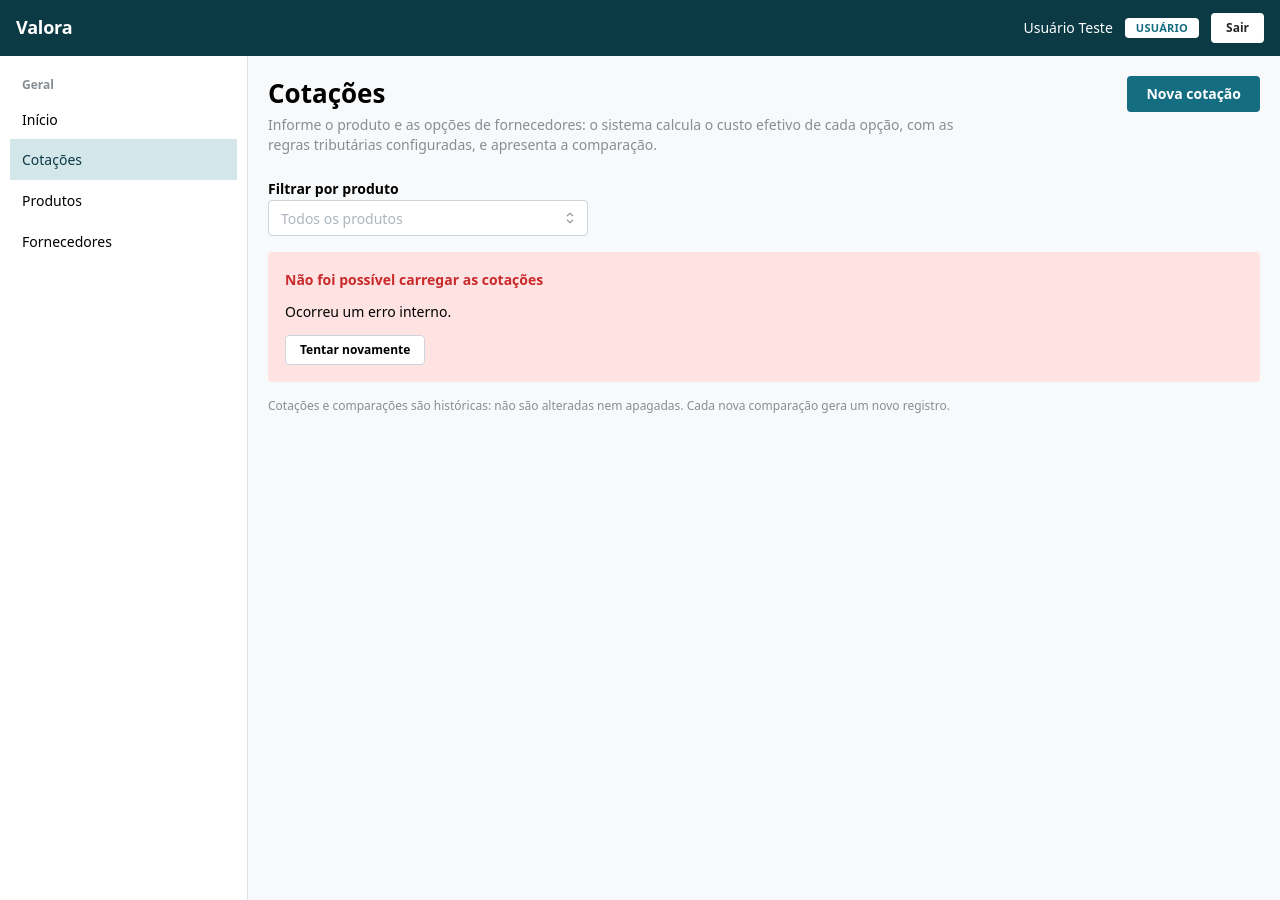
Test case: CotacoesPage — listagem › mostra o erro da API e permite tentar novamente
Expected: the message shows "Não foi possível carregar as cotações", [285, 270, 543, 290]
Click the button "Tentar novamente": (355, 350) [285, 335, 425, 365]
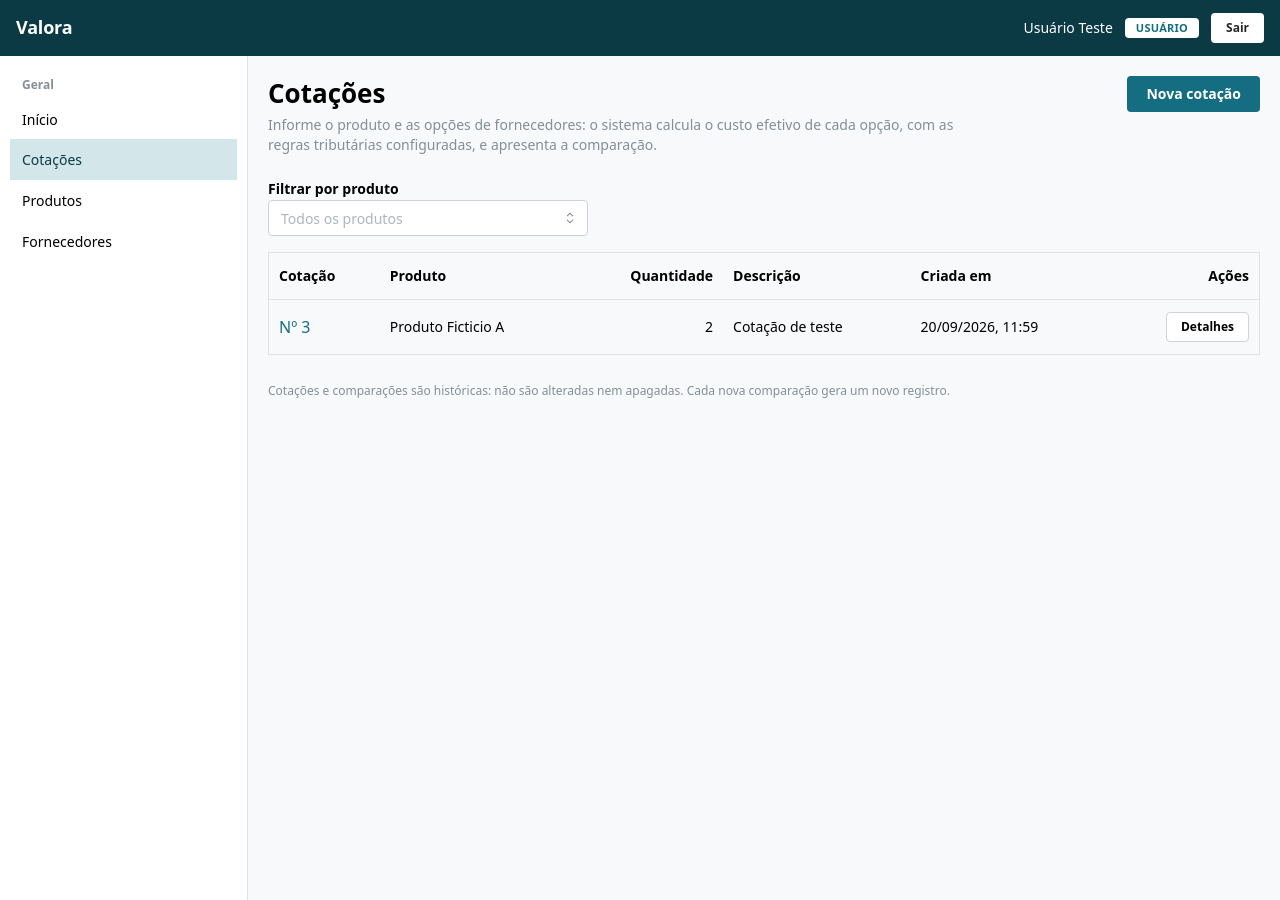
Result: the table named "Cotações registradas" is shown at [268, 252, 1260, 355]
